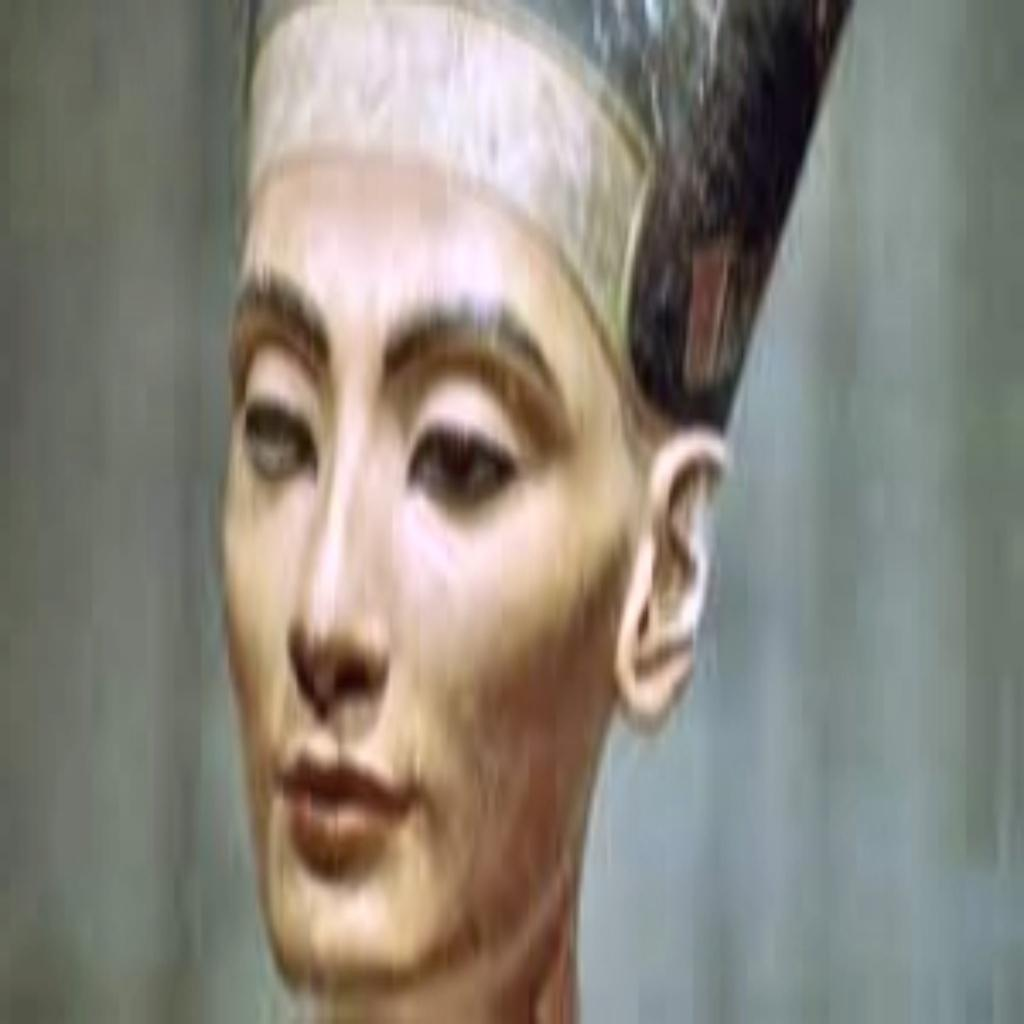Nefertiti: (222, 0, 858, 1018)
